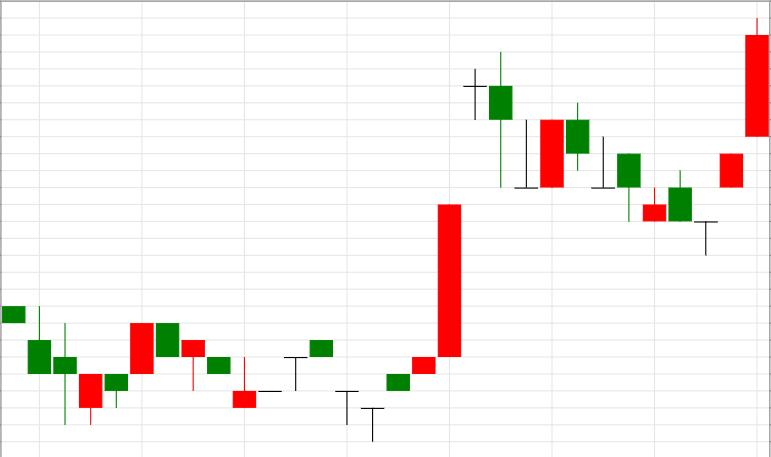morning_star_rise: (566, 104, 743, 257)
